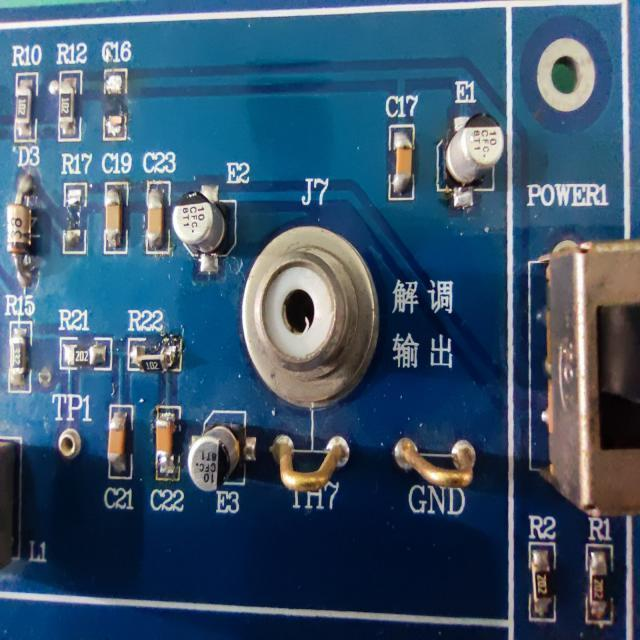Missing component: (96, 38, 135, 139), (59, 148, 93, 260)
